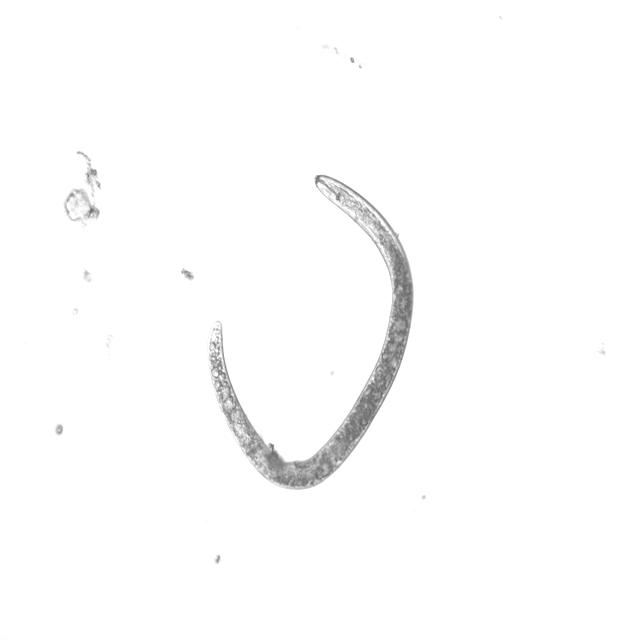Helicotylenchus: (202, 174, 416, 496)
